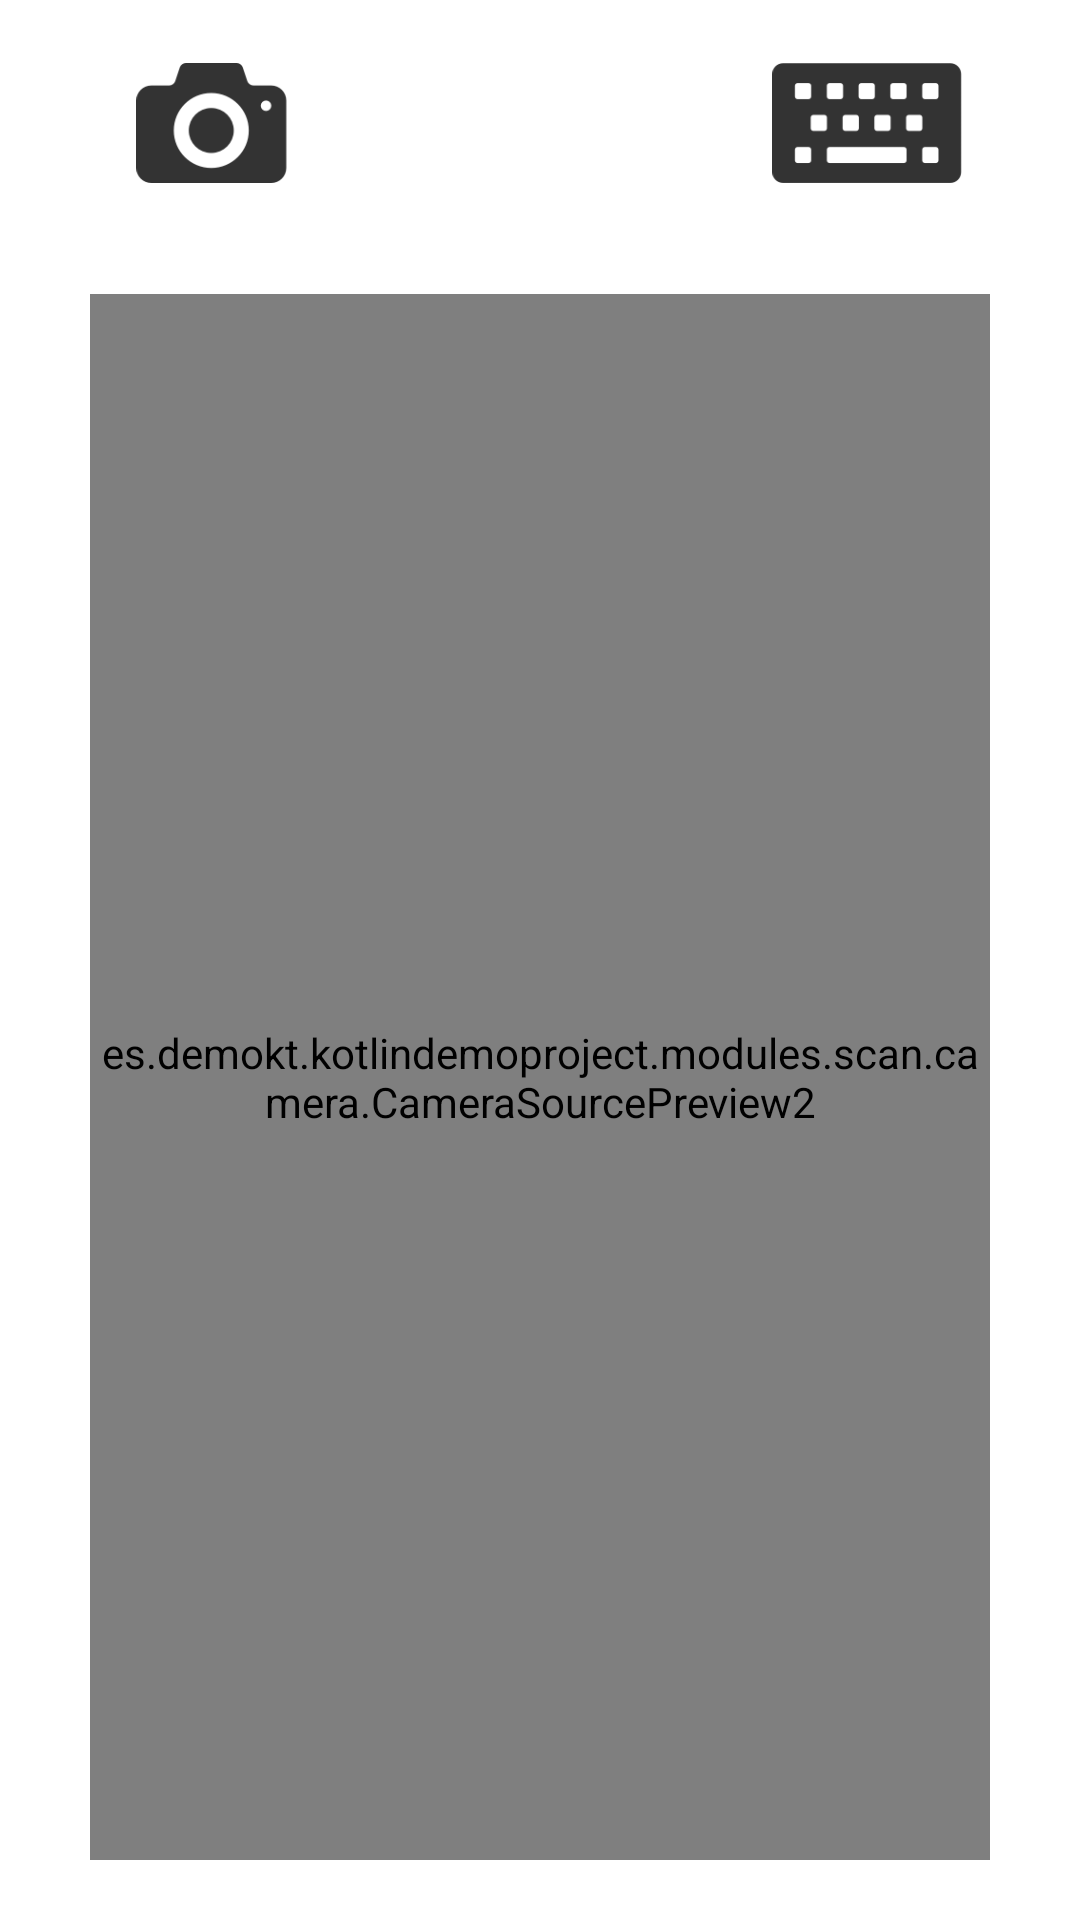

Where to tap for icons on this 1080×1920 app screen, as [x,y]:
keyboard: [867,123]
